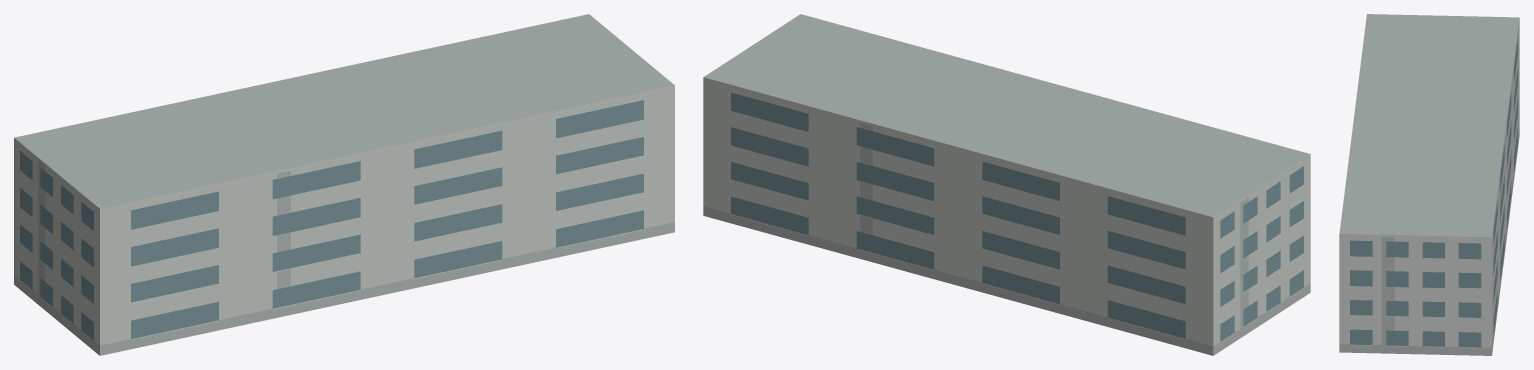
The model's file is residential-9d9bb5ea-5ef0-4711-a209-b91e4d66dd61.glb.
3 views of the same model, side by side, from view 1: azimuth 30°, elevation 25°; view 2: azimuth 150°, elevation 25°; view 3: azimuth 270°, elevation 25° (orthographic). The views are drawn at different scales.
Visible parts, largest first — view 1: residential-9d9bb5ea-5ef0-4711-a209-b91e4d66dd61.tmp; view 2: residential-9d9bb5ea-5ef0-4711-a209-b91e4d66dd61.tmp; view 3: residential-9d9bb5ea-5ef0-4711-a209-b91e4d66dd61.tmp.
Part boxes in pixels (x1=…): residential-9d9bb5ea-5ef0-4711-a209-b91e4d66dd61.tmp: x1=14, y1=14, x2=674, y2=355; residential-9d9bb5ea-5ef0-4711-a209-b91e4d66dd61.tmp: x1=703, y1=14, x2=1310, y2=355; residential-9d9bb5ea-5ef0-4711-a209-b91e4d66dd61.tmp: x1=1339, y1=14, x2=1519, y2=355.
Bounding box in the file's own units: 49.21 × 12.2 × 16.79.
